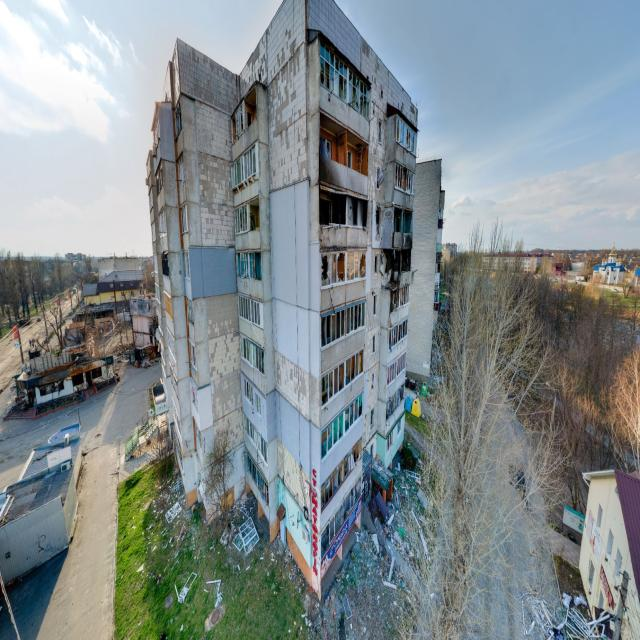building: (145, 0, 422, 600), (578, 466, 640, 639)
